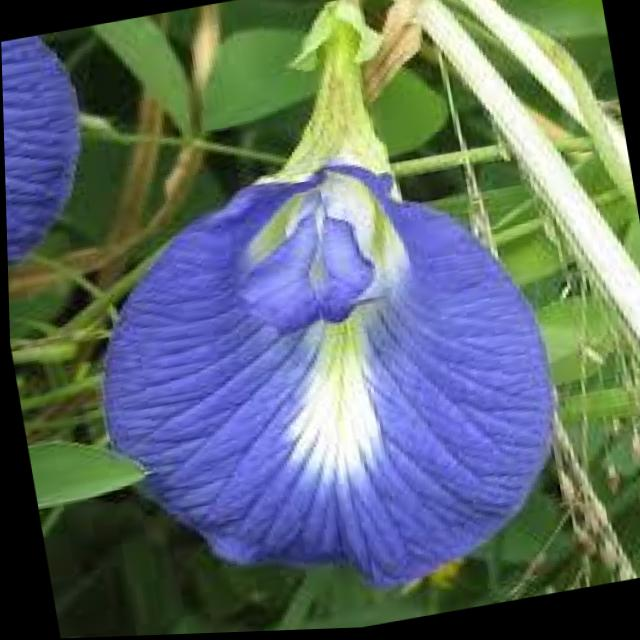Flower: (72, 138, 588, 632)
